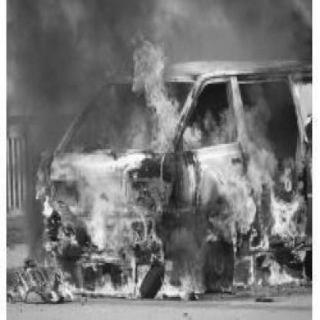Fire: (29, 24, 309, 301)
